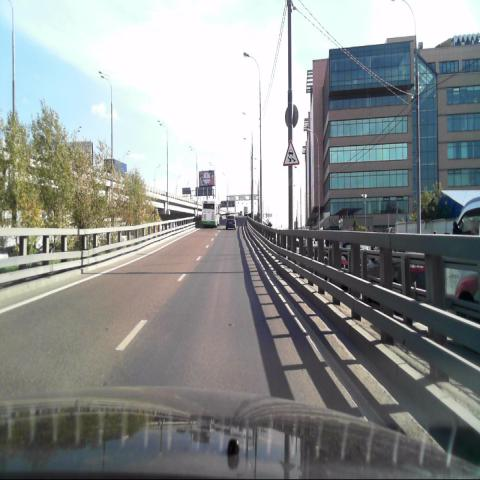1_15: (282, 142, 300, 166)
